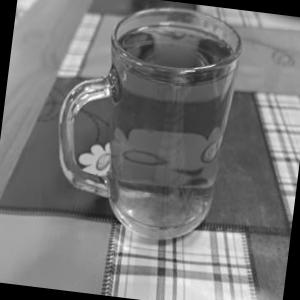tea: (76, 0, 252, 263)
